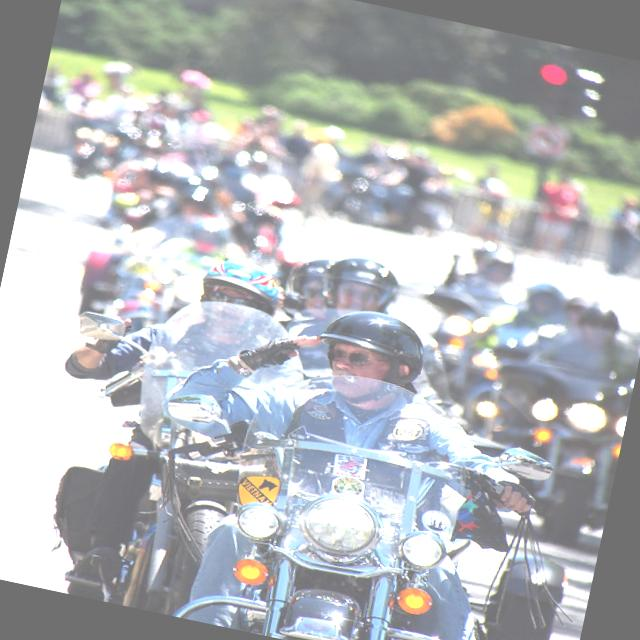Vehicle: (124, 338, 559, 640), (22, 273, 284, 625), (441, 305, 640, 553), (412, 269, 618, 450), (69, 92, 188, 197), (320, 160, 460, 242), (124, 260, 210, 345), (69, 242, 126, 330), (461, 176, 536, 240), (415, 281, 497, 326)
